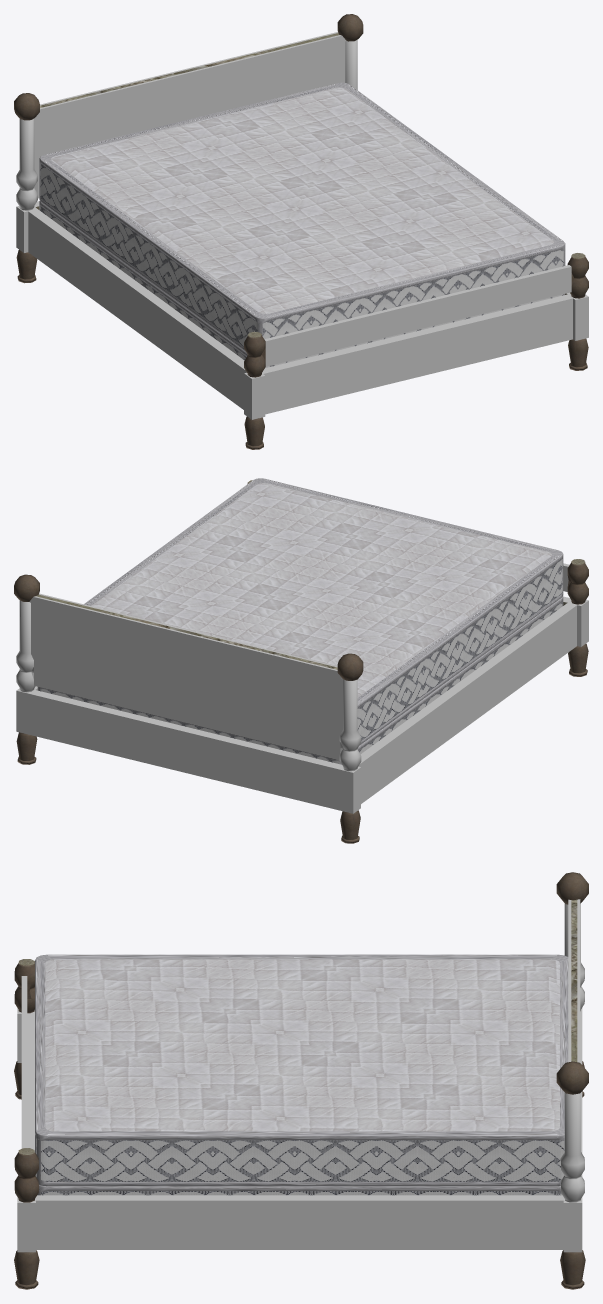
The model's file is BedAFullMattress.fbx.
The picture shows the model from 3 angles, top to bottom: view 1: azimuth 30°, elevation 25°; view 2: azimuth 150°, elevation 25°; view 3: azimuth 270°, elevation 25°; orthographic projection. The views are drawn at different scales.
Visible parts, largest first — view 1: BedAFullMattress; view 2: BedAFullMattress; view 3: BedAFullMattress.
Part boxes in pixels (x1,y1,x2,y2): BedAFullMattress: (14, 14, 588, 449); BedAFullMattress: (14, 478, 588, 843); BedAFullMattress: (14, 872, 588, 1289).
Size of the model in its own units: 236 by 120 by 283.
